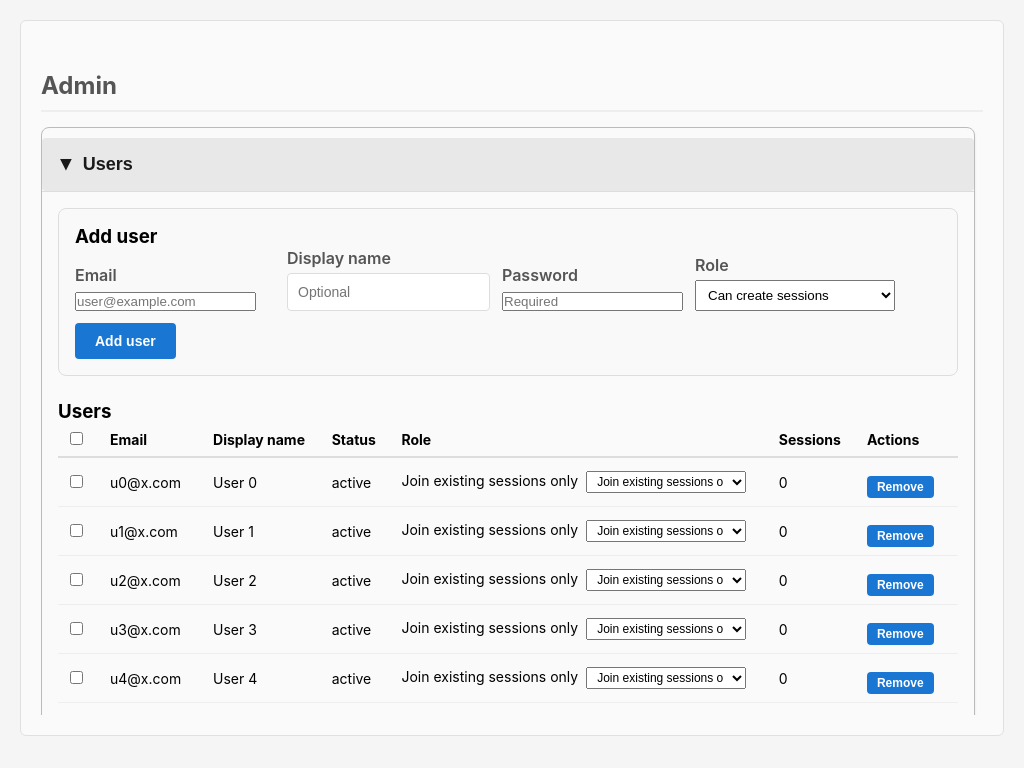
Scenario: Type-to-confirm for large bulk deletes (SCRUM-584) › resets the typed confirmation when the dialog is cancelled and reopened
The width and height of the screenshot is (1024, 768).
Click the checkbox named "Select all users" at (76, 438), box left=70, top=432, right=83, bottom=445
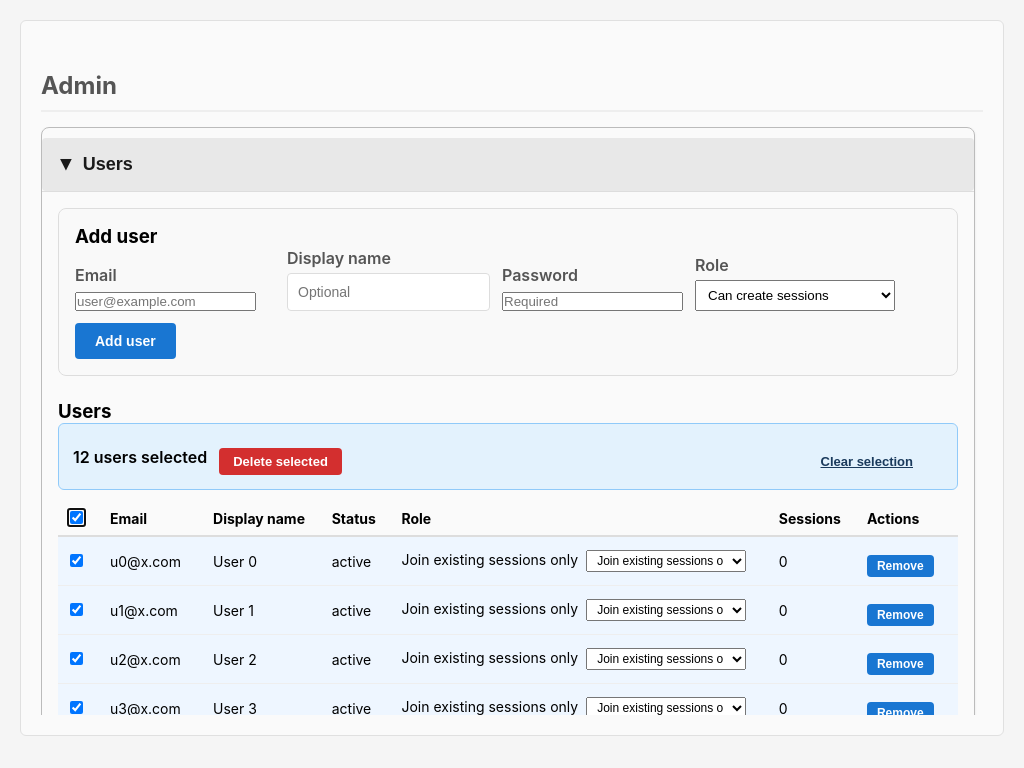
Click the button "Delete selected" at (281, 462), box left=219, top=448, right=342, bottom=475
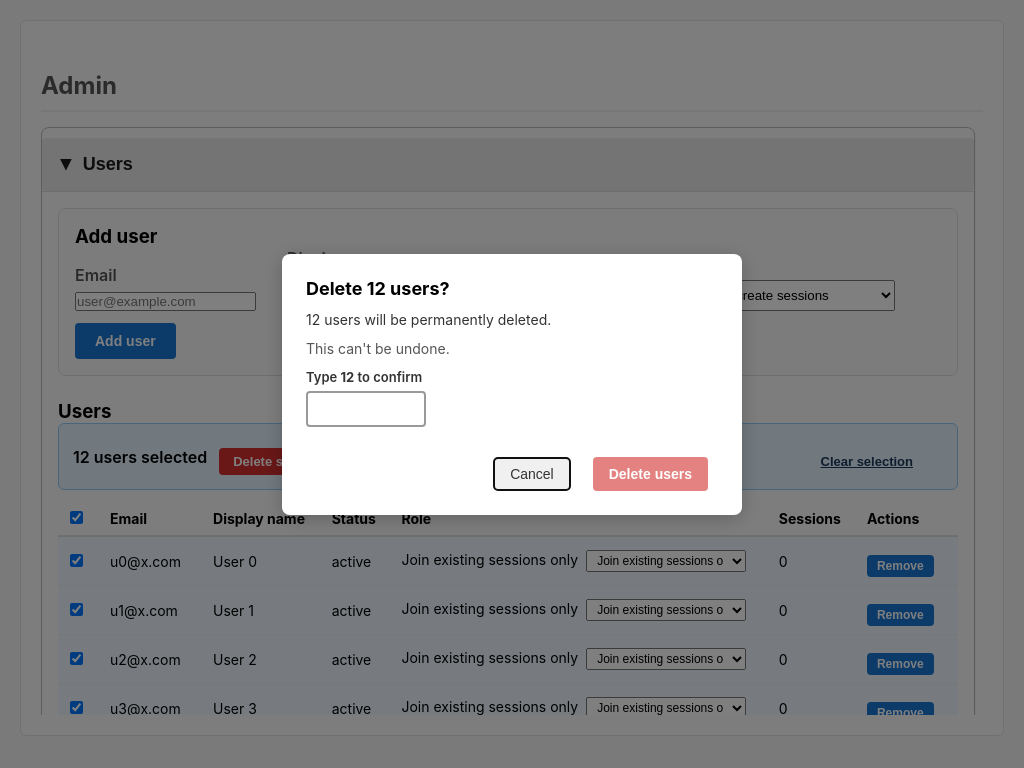
Type "12" into the field labelled "Type 12 to confirm" at (366, 408), box left=306, top=390, right=426, bottom=426
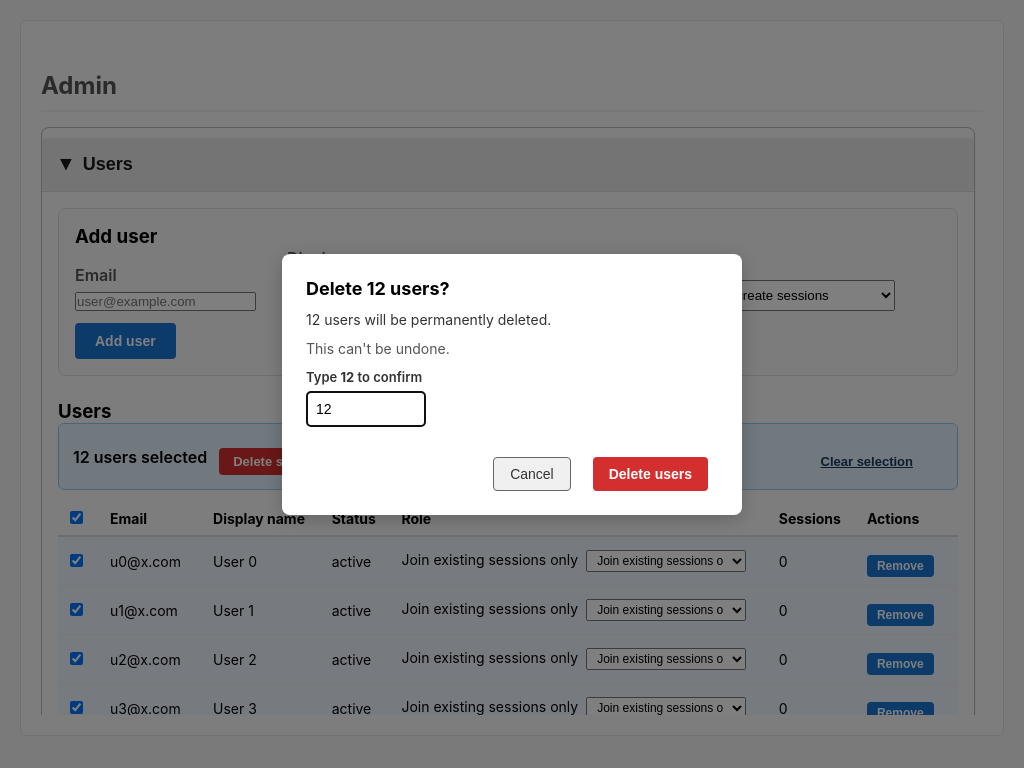
Click the button "Cancel" at (532, 474), box left=493, top=456, right=571, bottom=490
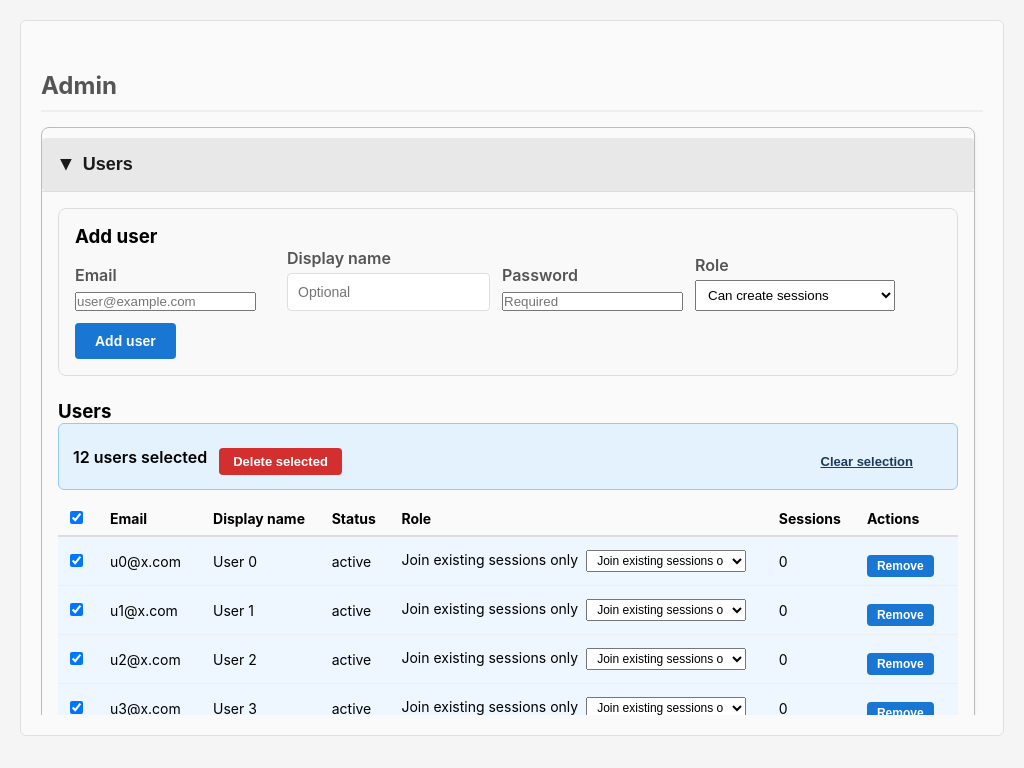
Note: Reopen — input must be empty and the button disabled again.
Click the button "Delete selected" at (281, 462), box left=219, top=448, right=342, bottom=475
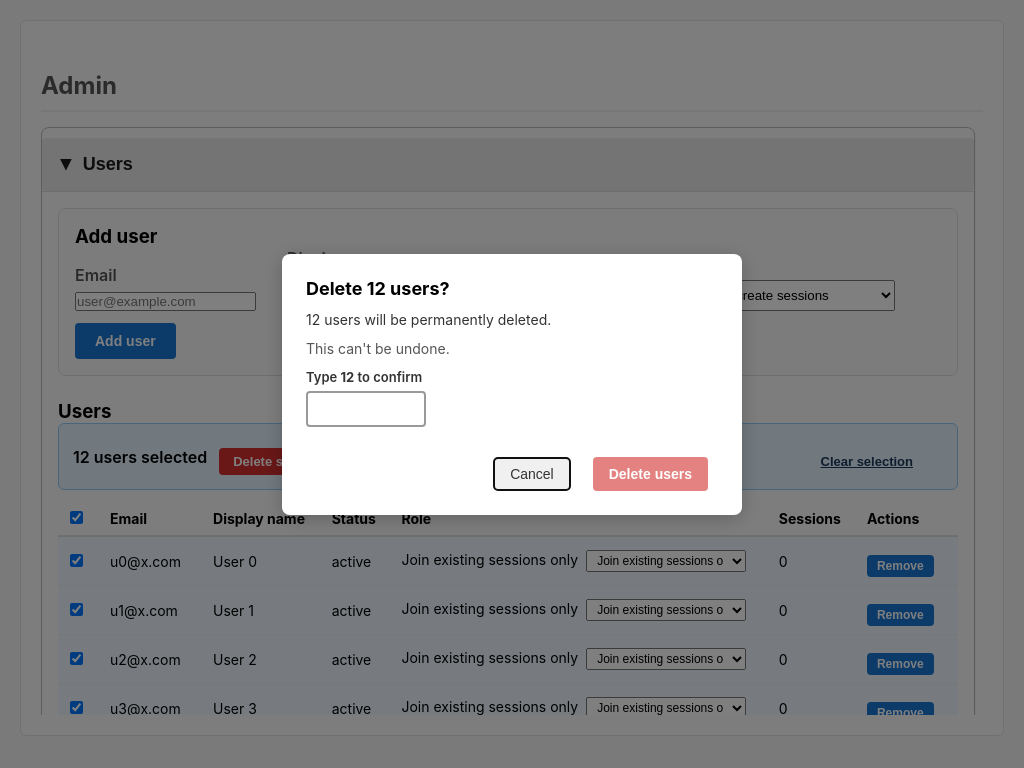
Check: the field labelled "Type 12 to confirm" is empty, box left=306, top=390, right=426, bottom=426
Check: the button "Delete users" is disabled, box left=593, top=456, right=708, bottom=490
